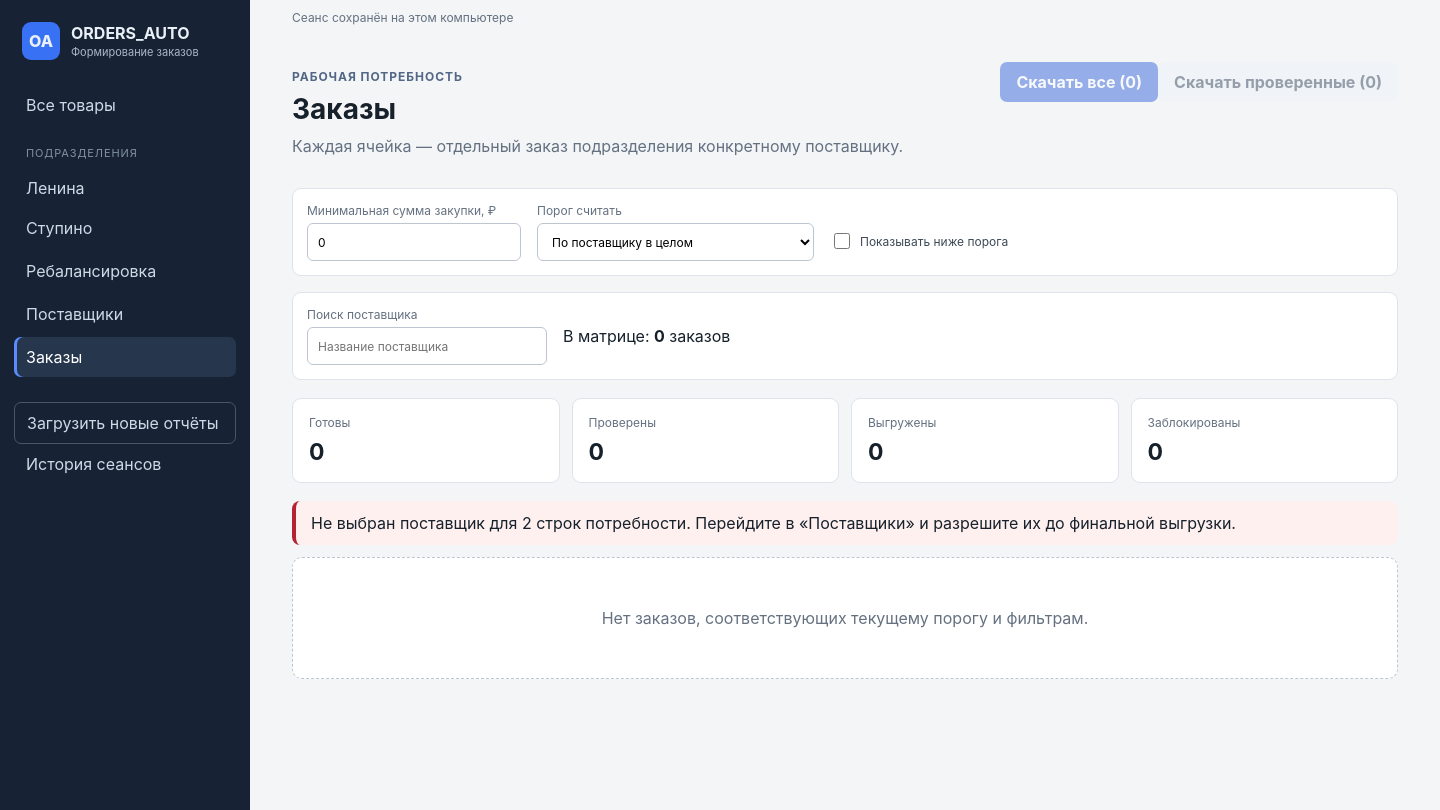
restores an excluded choice as unresolved and persists an explicit allowed replacement without deleting history
The image size is (1440, 810).
Check: the heading "Заказы" is shown, box [292,92,396,126]
Check: the button "Скачать все (0)" is disabled, box [1000,62,1158,102]
Step 1. Click the button "Поставщики" → (125, 314), box [14,294,236,334]
(page scrolled)
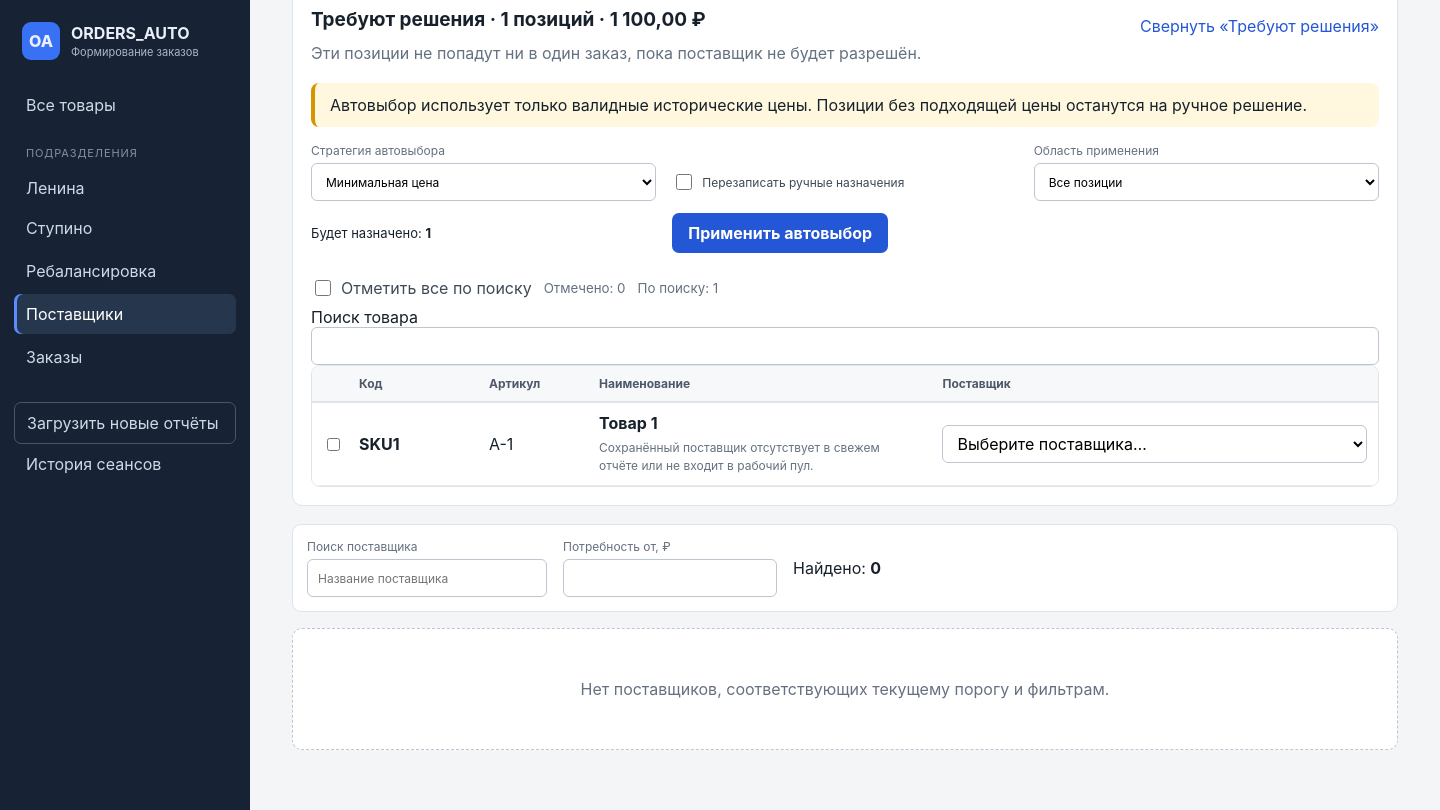
Check: the text "не входит в рабочий пул" is shown, box [599,440,880,473]
Step 2. Select "ИП Баранов Роман Борисович — рекомендуемый · 10 ед. · 1 000,00 ₽ · 100,00 ₽" in the dropdown named "Поставщик SKU1" → (1155, 444), box [942,425,1367,463]
(page scrolled)
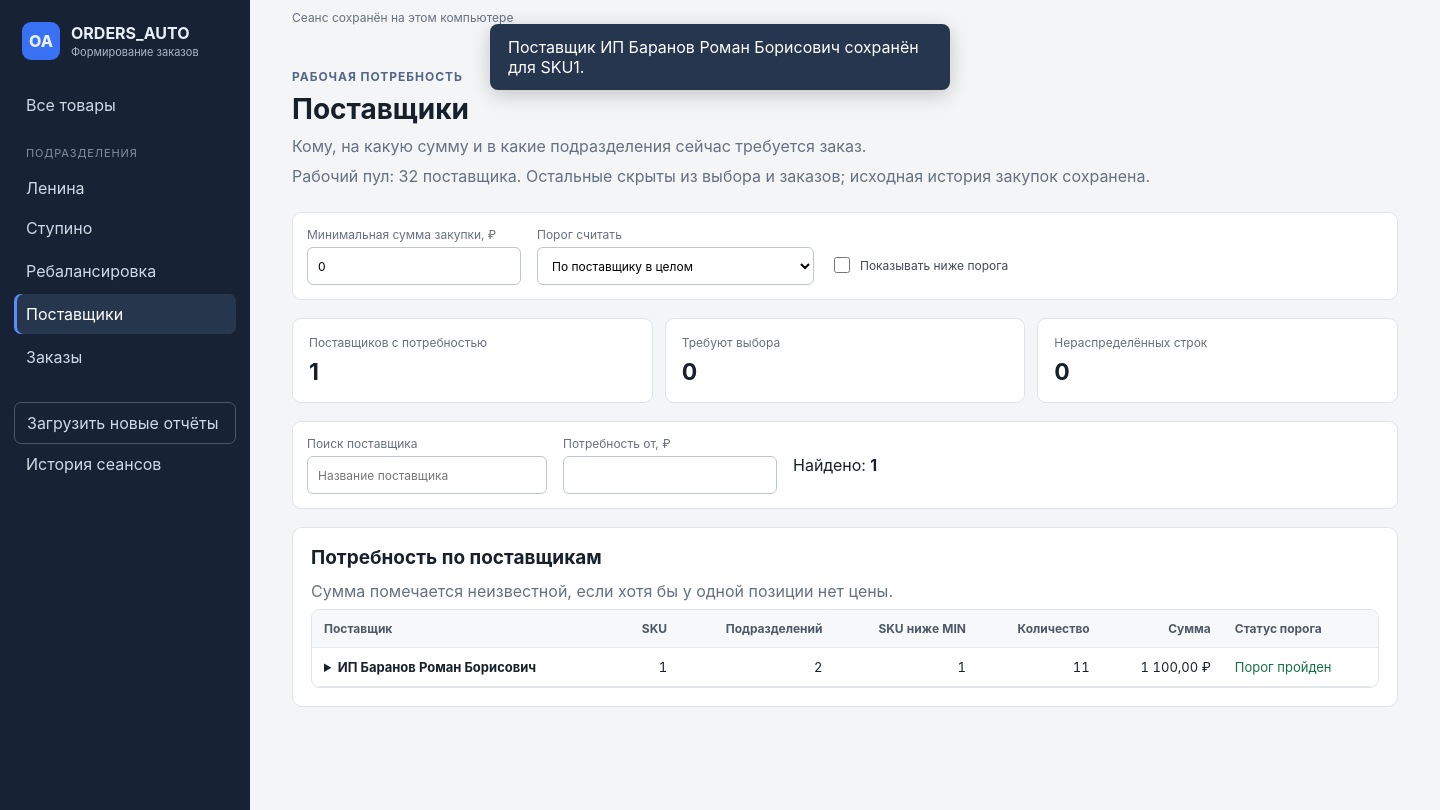
Check: the dropdown labelled "Поставщик SKU1" is gone
Check: the text "ИП Баранов Роман Борисович" is shown, box [338,659,536,675]
